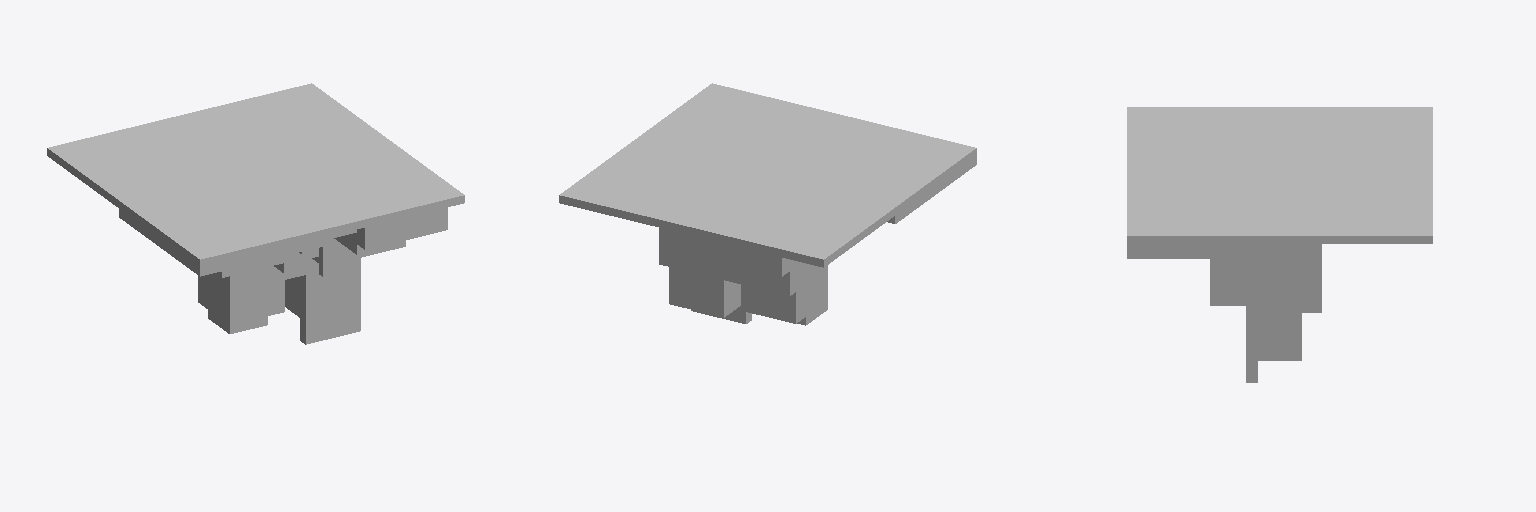
The model's file is ile2.obj.
3 views of the same model, side by side, from view 1: azimuth 30°, elevation 25°; view 2: azimuth 150°, elevation 25°; view 3: azimuth 270°, elevation 25° (orthographic).
Parts seen in each view (by area): view 1: Cube; view 2: Cube; view 3: Cube.
Part boxes in pixels (bbox=[...]): Cube: bbox=[47, 83, 464, 344]; Cube: bbox=[559, 83, 976, 325]; Cube: bbox=[1127, 107, 1432, 382].
Bounding box in the file's own units: 25.79 × 15.72 × 25.79.